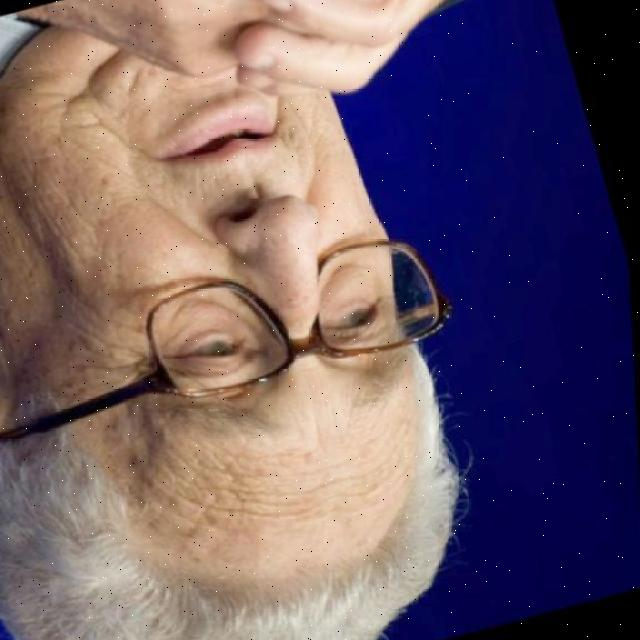puffy_eyes: (175, 294, 241, 340), (324, 264, 393, 307)
